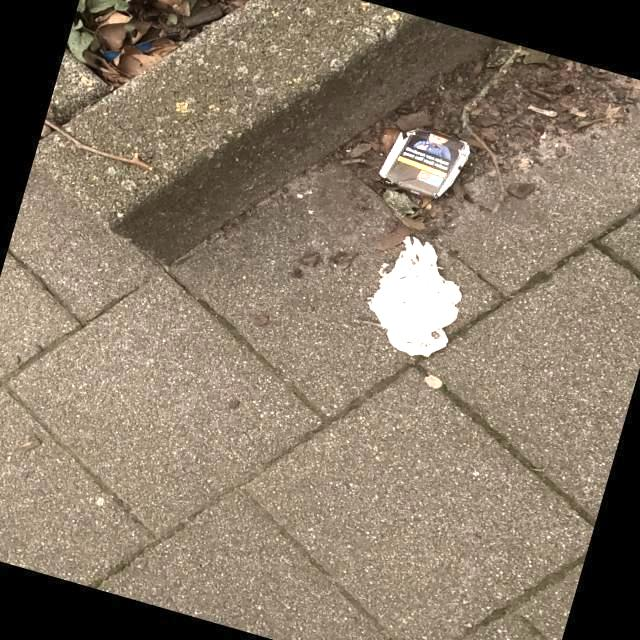Paper: (364, 234, 464, 358), (376, 126, 472, 200)
